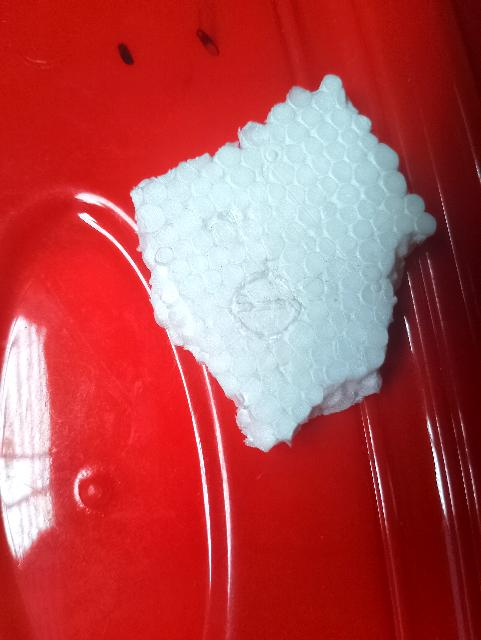cocksheet: (150, 89, 429, 435)
